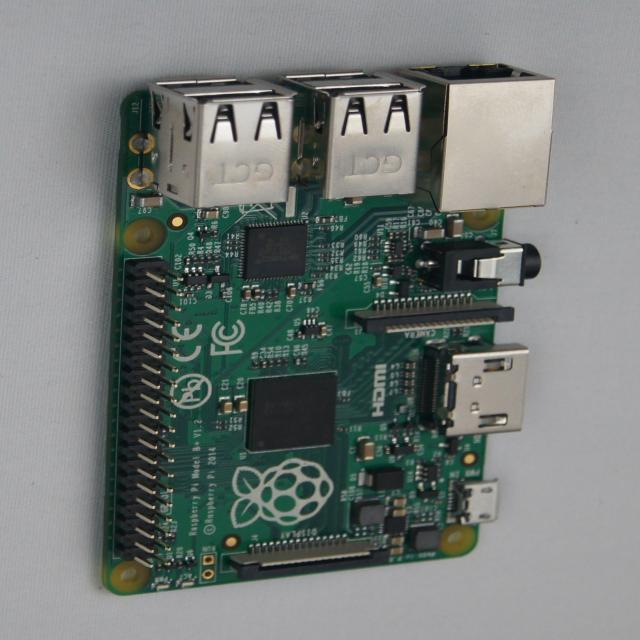Raspberry Pi 1 B-: (105, 65, 555, 595)
